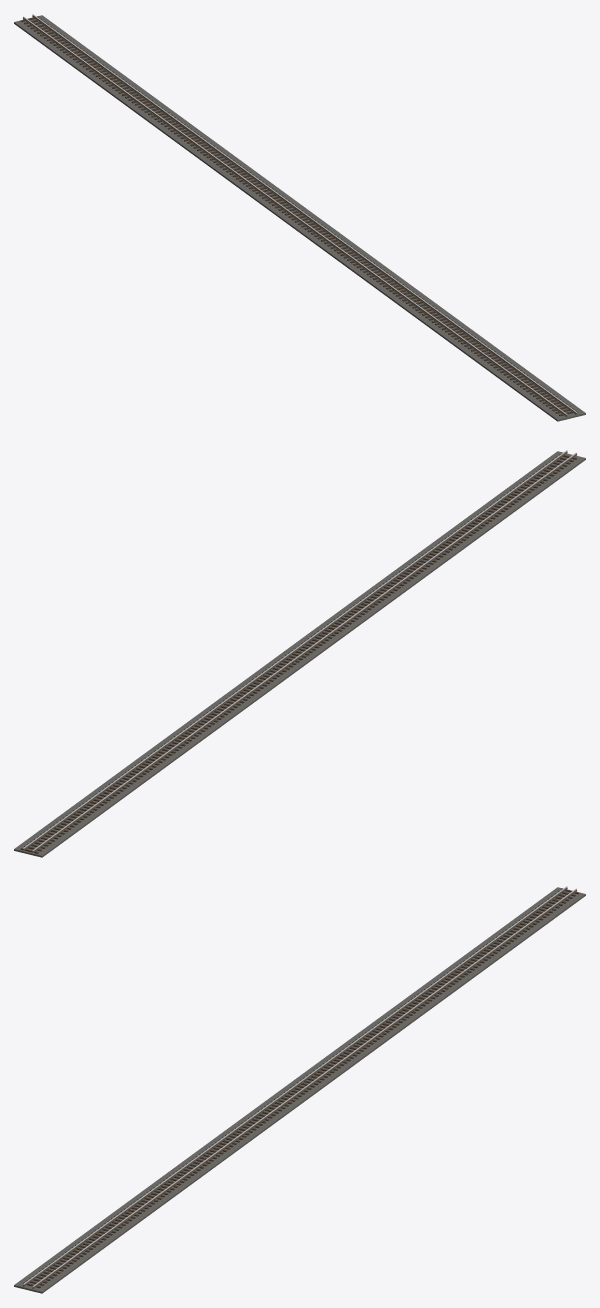
The model's file is ferrovia.glb.
3 renders of one model, top to bottom at view 1: azimuth 30°, elevation 25°; view 2: azimuth 150°, elevation 25°; view 3: azimuth 330°, elevation 25°, orthographic.
Size of the model in its own units: 9.01 by 1.45 by 300.
Materials: 4 (2 with a texture image).
